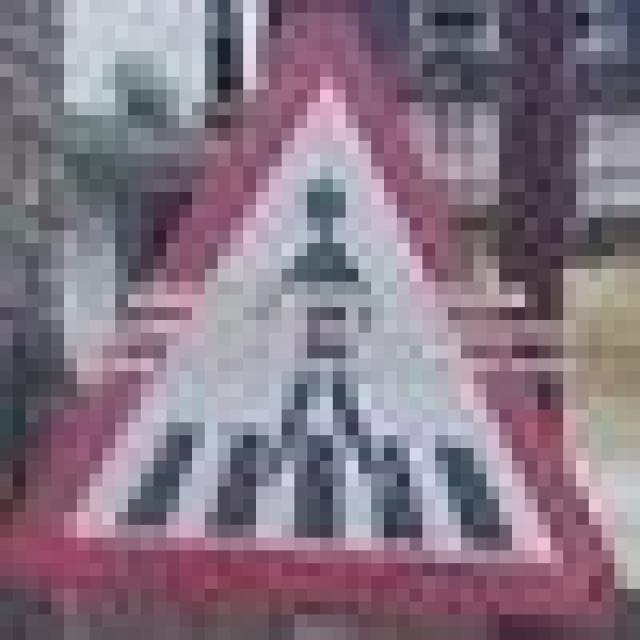pass_either_side: (0, 0, 627, 602)
